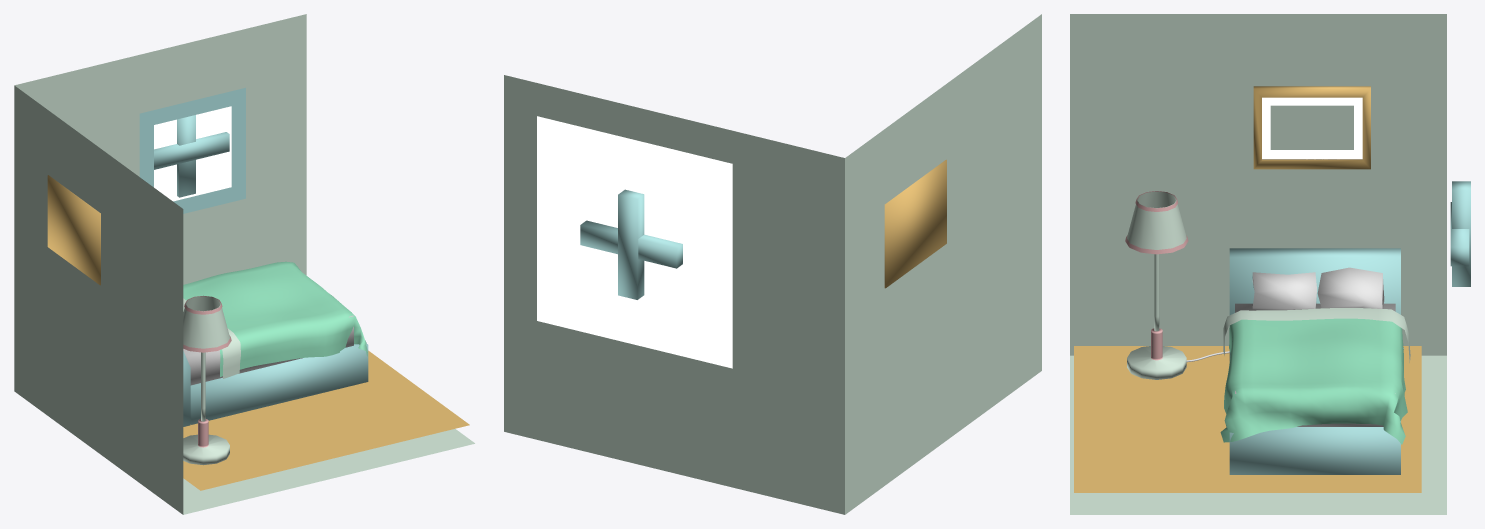
Rendered from 20240304_151207_min_room.glb.
3 renders of one model, left to right at view 1: azimuth 30°, elevation 25°; view 2: azimuth 150°, elevation 25°; view 3: azimuth 270°, elevation 25°, orthographic. The views are drawn at different scales.
Parts seen in each view (by area): view 1: Cube, Cube.001, 平面, 立方体.001, Cube.002, 立方体.008, 平面.002, 円柱.001, 円柱, 立方体.003, 立方体.005, 立方体.007 (+2 smaller); view 2: Cube, 平面.002, 立方体.008, 立方体.007, 立方体.003; view 3: Cube, Cube.001, 平面, 立方体.008, 立方体.001, 立方体.002, 円柱.001, 立方体.006, 円柱, 立方体.004, 平面.001, 立方体.007 (+2 smaller).
Boxes of the visible parts, x1,y1,x2,y2 form: Cube: [14, 14, 474, 514]; Cube.001: [183, 350, 469, 490]; 平面: [183, 261, 367, 376]; 立方体.001: [190, 343, 368, 424]; Cube.002: [139, 87, 245, 213]; 立方体.008: [47, 175, 100, 285]; 平面.002: [154, 106, 231, 201]; 円柱.001: [183, 295, 231, 352]; 円柱: [183, 352, 229, 465]; 立方体.003: [154, 132, 229, 169]; 立方体.005: [183, 315, 353, 385]; 立方体.007: [177, 115, 195, 197]; Cube: [504, 14, 1041, 514]; 平面.002: [537, 116, 732, 368]; 立方体.008: [884, 159, 946, 288]; 立方体.007: [618, 189, 644, 299]; 立方体.003: [580, 220, 682, 268]; Cube: [1070, 14, 1446, 514]; Cube.001: [1074, 346, 1421, 492]; 平面: [1220, 318, 1407, 444]; 立方体.008: [1253, 86, 1370, 169]; 立方体.001: [1229, 351, 1400, 474]; 立方体.002: [1229, 248, 1400, 326]; 円柱.001: [1125, 191, 1188, 254]; 立方体.006: [1317, 267, 1384, 308]; 円柱: [1127, 254, 1186, 379]; 立方体.004: [1252, 272, 1316, 310]; 平面.001: [1223, 308, 1410, 362]; 立方体.007: [1452, 181, 1470, 286].
Bounding box in the file's own units: 3.1 × 3.09 × 3.29.
